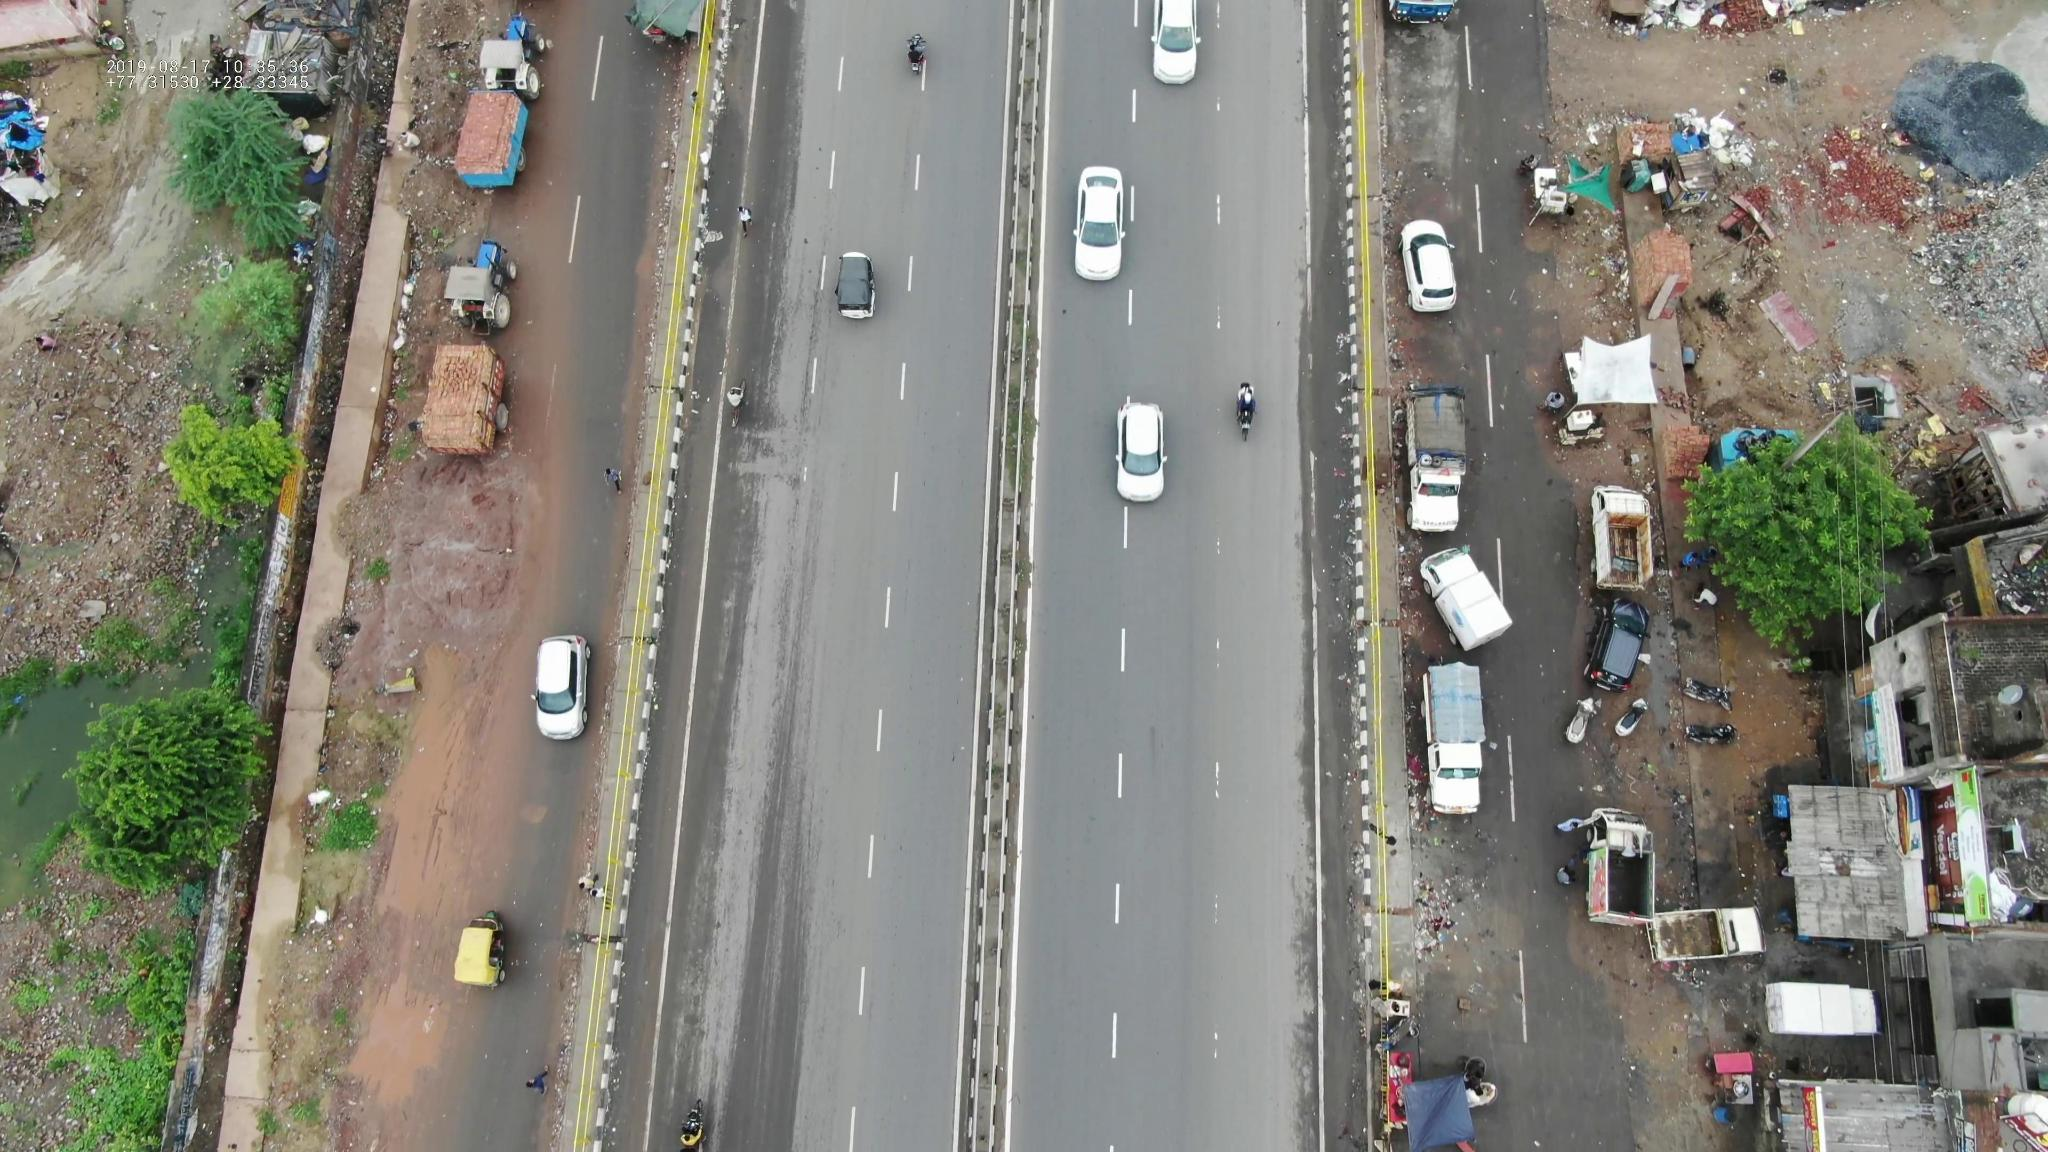Muddy_road: (347, 499, 508, 881)
